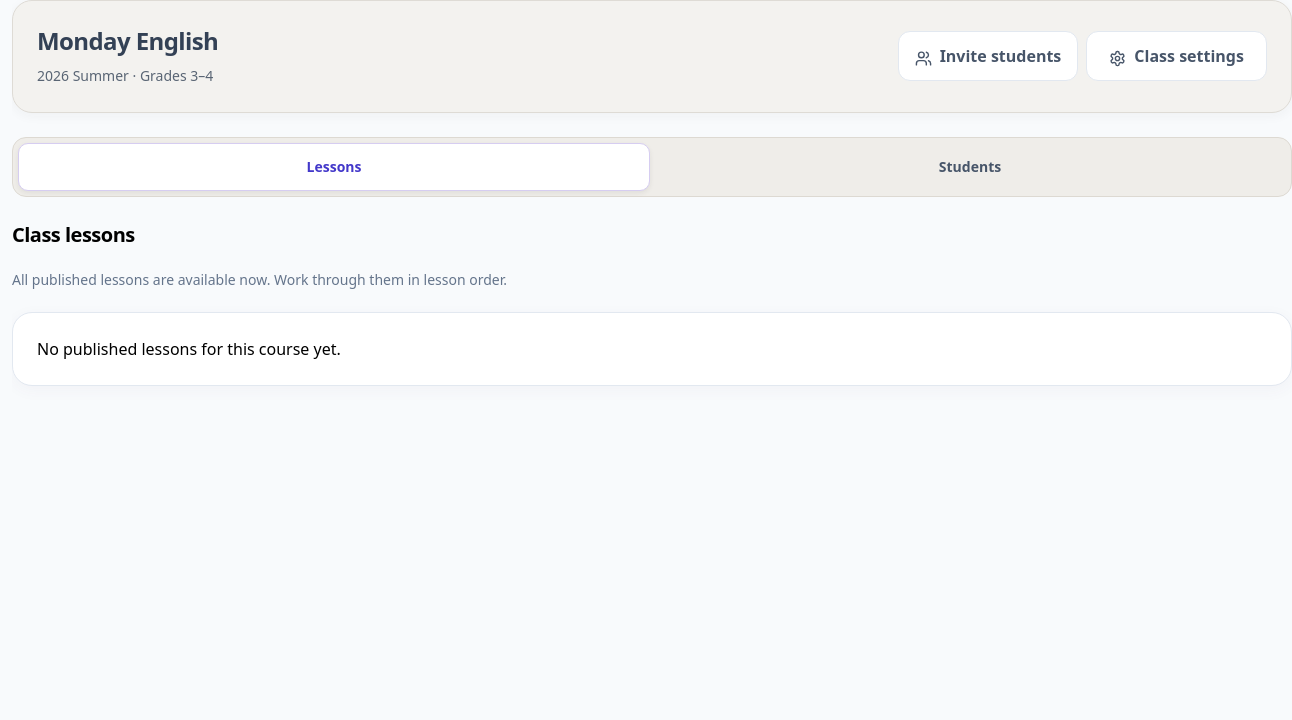
Test: compact teacher class hides invitations and progress until requested
The image size is (1292, 720).
Expected: the text "2026 Summer · Grades 3–4" is shown, left=37, top=65, right=218, bottom=88
Expected: the field showing "PRIVATE-CODE" is not shown
Step 1. Click the button "Invite students" → [988, 56], box left=898, top=31, right=1078, bottom=81
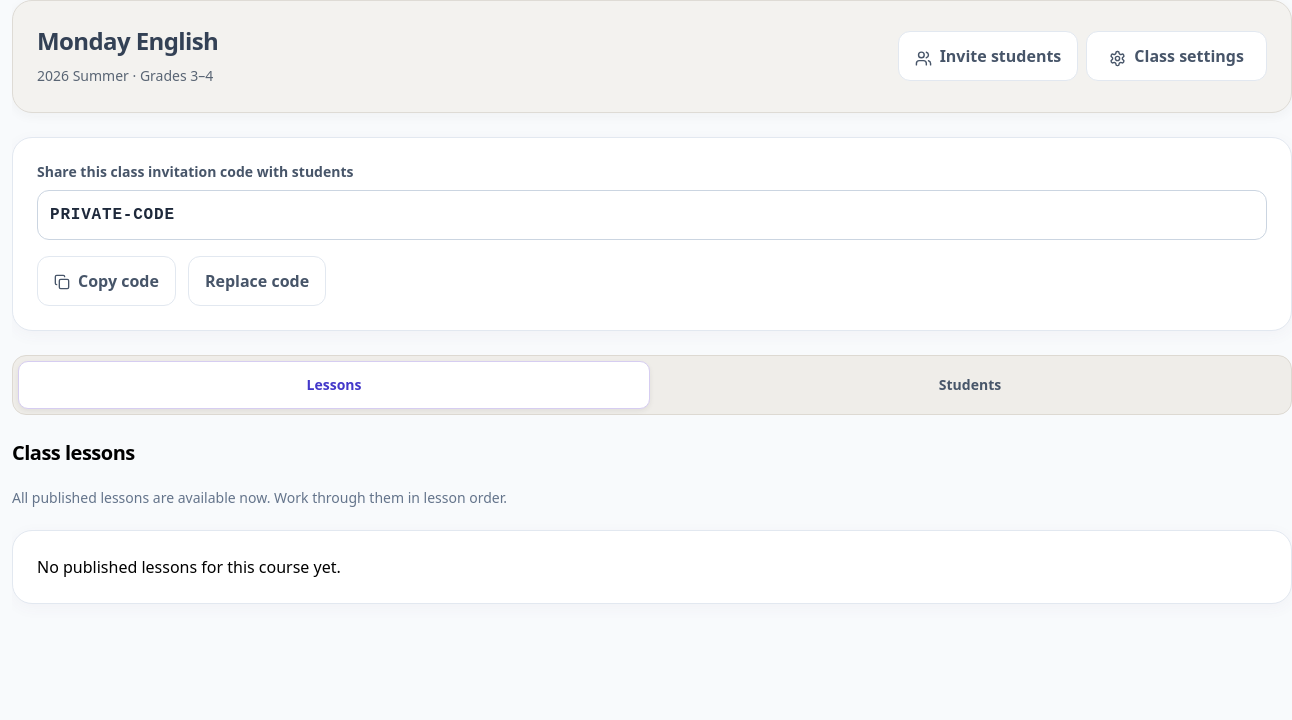
Expected: the field showing "PRIVATE-CODE" is shown, left=37, top=190, right=1267, bottom=240
Step 2. Click the button "Students" → [970, 385], box left=654, top=361, right=1286, bottom=409
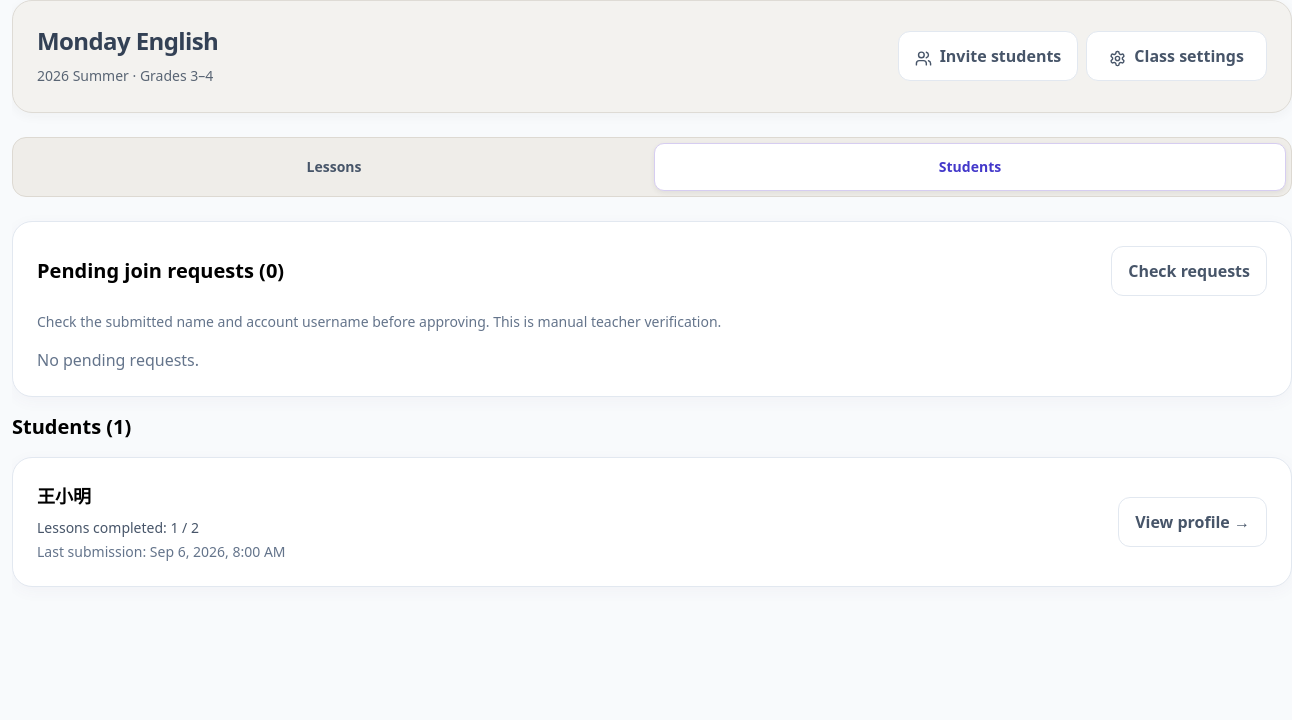
Expected: the number of headings "王小明" is 1, left=37, top=484, right=91, bottom=508
